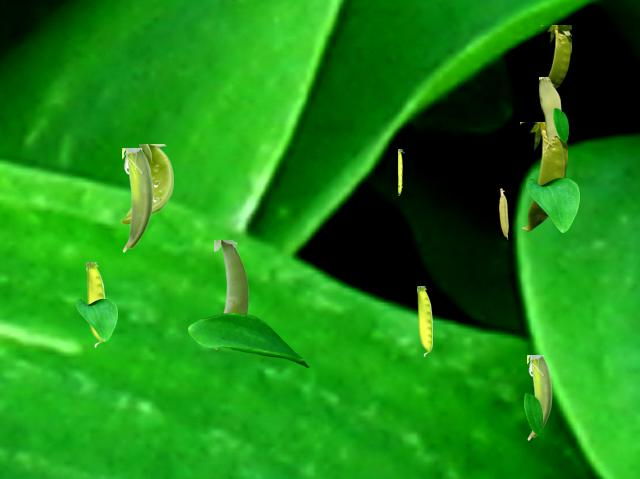pea: (520, 122, 566, 230), (120, 144, 172, 223), (214, 240, 247, 348), (122, 148, 153, 251), (527, 355, 552, 439), (541, 25, 570, 88), (539, 77, 561, 146), (86, 262, 104, 346), (417, 286, 431, 355), (499, 188, 507, 238), (398, 149, 403, 194)
